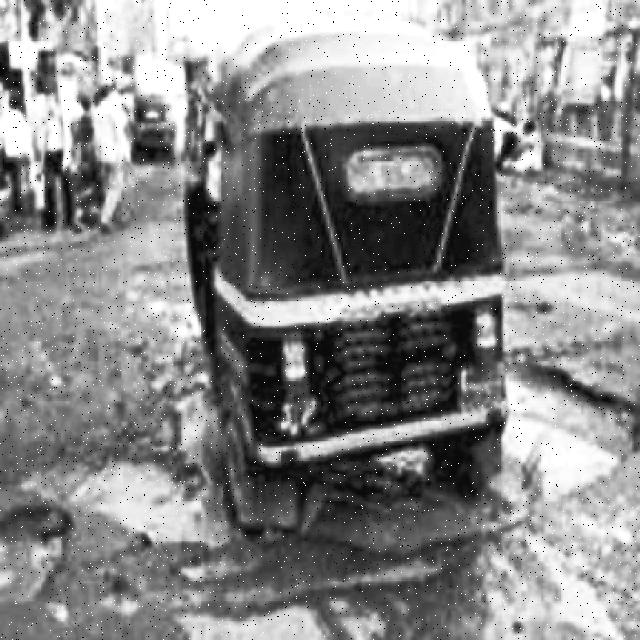Auto-Rickshaw: (184, 21, 506, 507)
